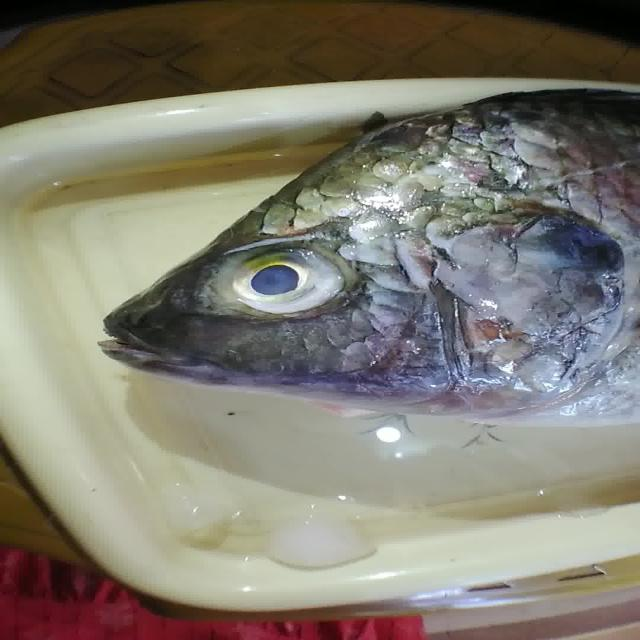Fresh: (180, 248, 393, 338)
